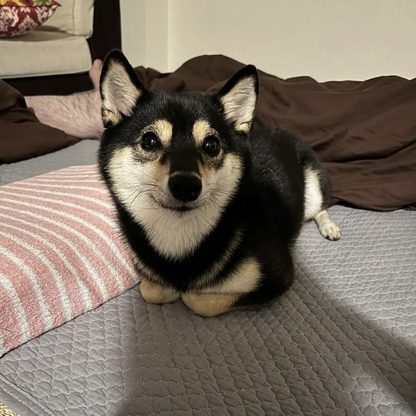shiba: (92, 41, 350, 328)
